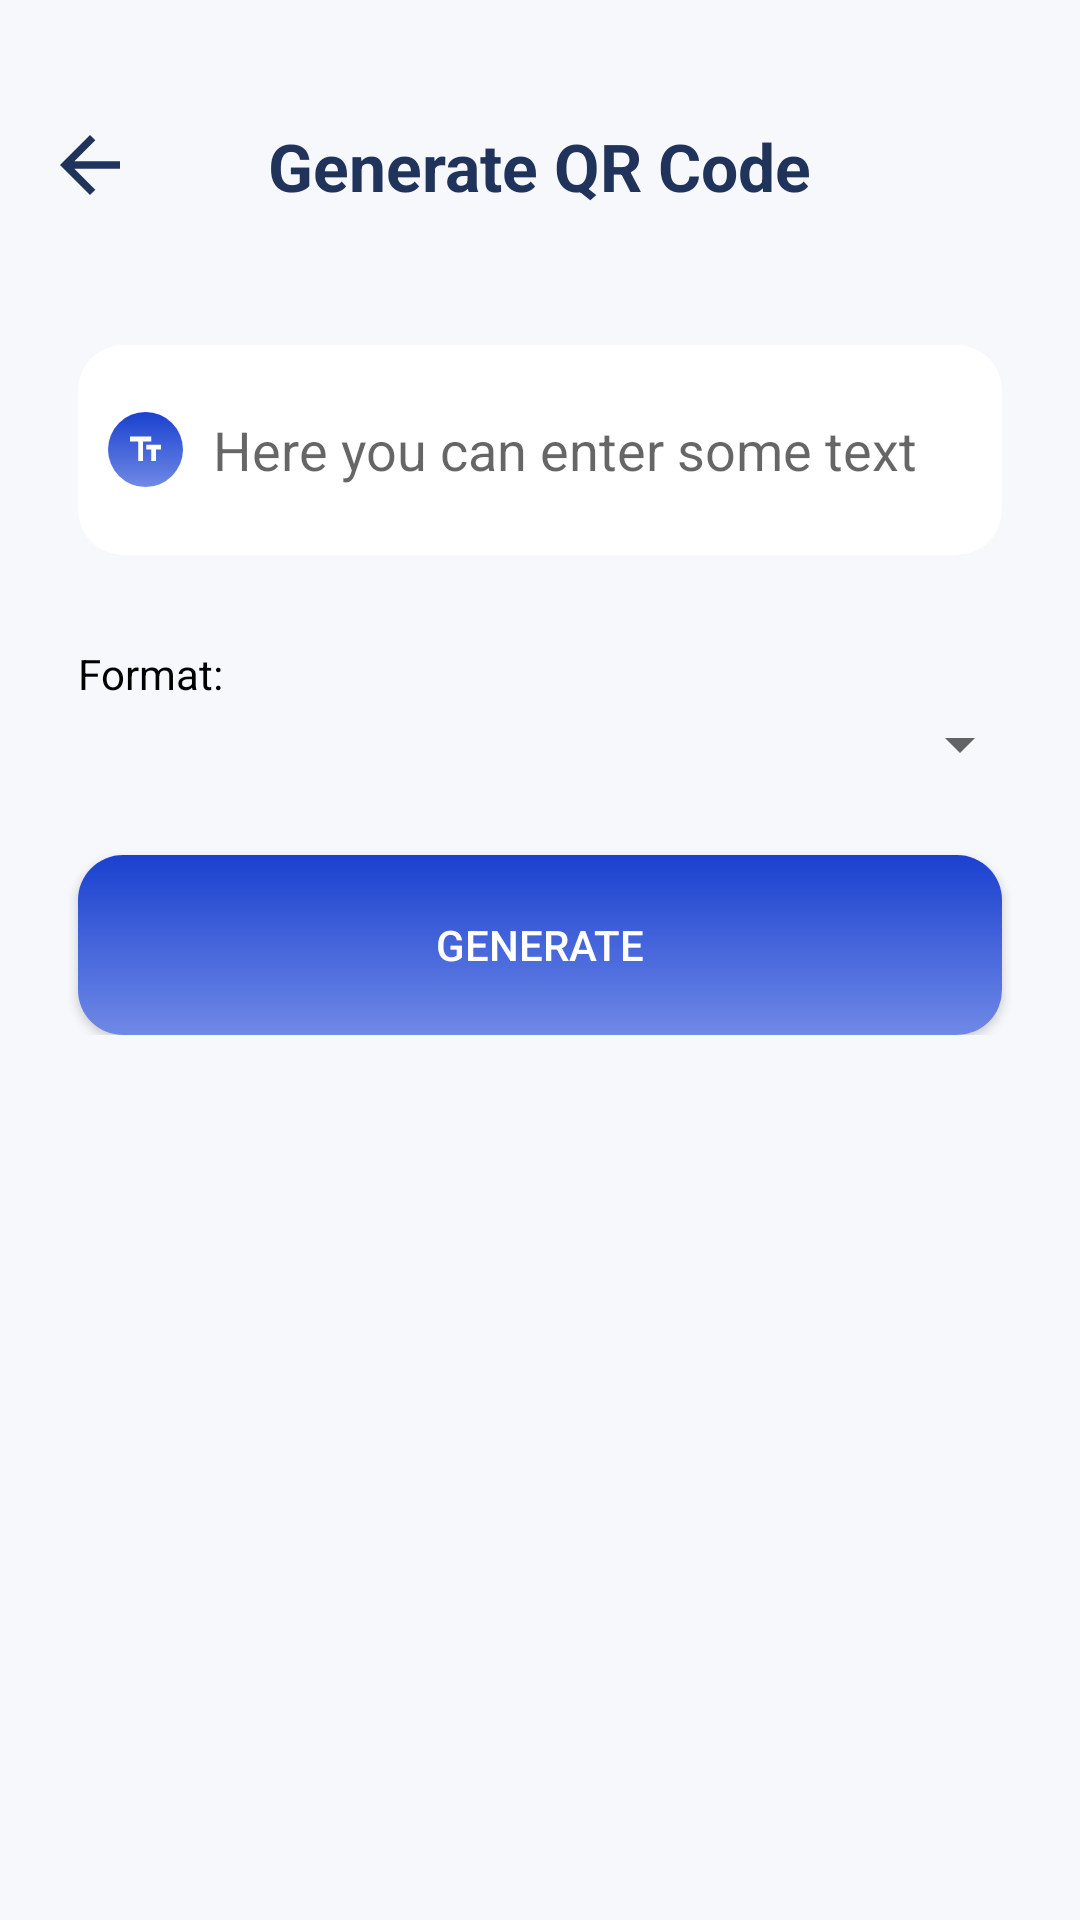

Icon click points for this 1080*1920 phone screenshot, format point (x, y):
arrow: point (90, 165)
